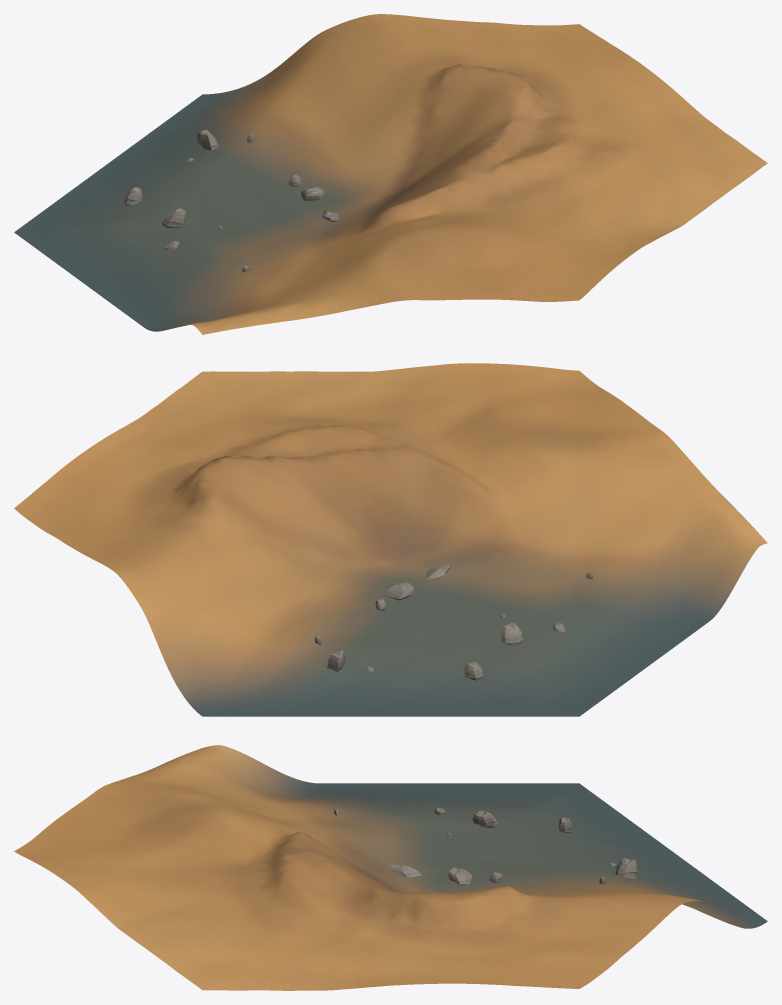
File: costa_-03_-01.glb
The picture shows the model from 3 angles, top to bottom: view 1: azimuth 30°, elevation 25°; view 2: azimuth 150°, elevation 25°; view 3: azimuth 270°, elevation 25°; orthographic projection.
Parts seen in each view (by area): view 1: terrain, Formações costeiras; view 2: terrain, Formações costeiras; view 3: terrain, Formações costeiras.
Part boxes in pixels (x1,y1,x2,y2): terrain: (14, 14, 767, 334); Formações costeiras: (124, 129, 338, 272); terrain: (14, 363, 767, 716); Formações costeiras: (315, 564, 593, 680); terrain: (14, 745, 767, 990); Formações costeiras: (334, 807, 637, 885).
Bounding box in the file's own units: 4330 × 702 × 5000.
1 material, 1 textured.
